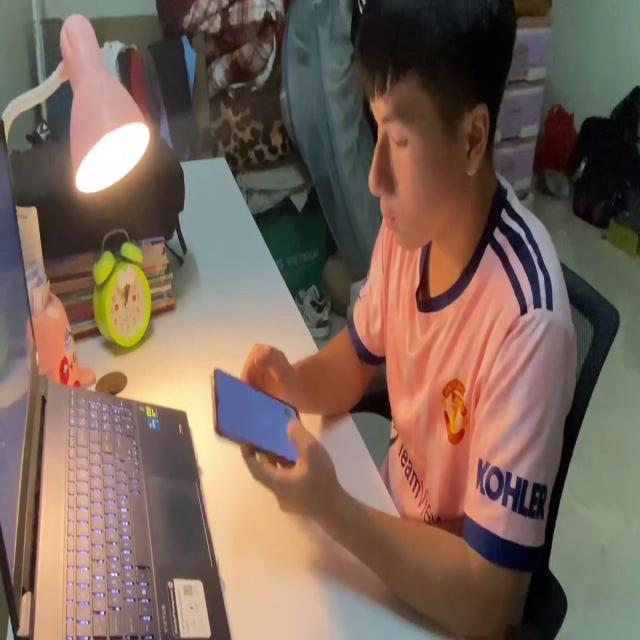laptop: (1, 110, 232, 640)
phone: (208, 362, 304, 468)
student: (239, 0, 577, 640)
